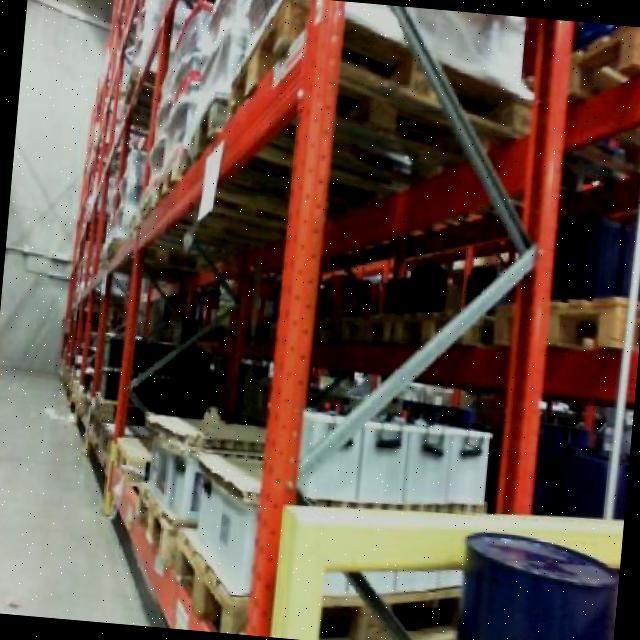pallet: (165, 524, 256, 633), (225, 0, 302, 124), (130, 473, 185, 574), (338, 310, 394, 348)
